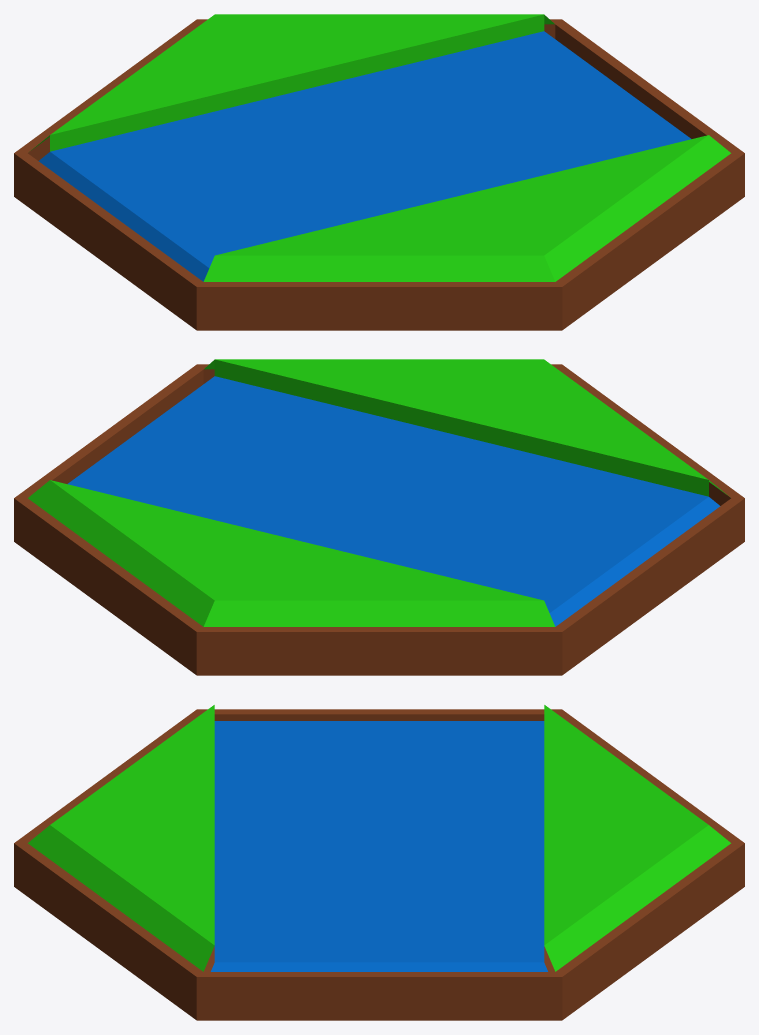
The picture shows the model from 3 angles, top to bottom: view 1: azimuth 30°, elevation 25°; view 2: azimuth 150°, elevation 25°; view 3: azimuth 270°, elevation 25°; orthographic projection.
Parts seen in each view (by area): view 1: SL0; view 2: SL0; view 3: SL0.
Part boxes in pixels (x1=…): SL0: x1=14, y1=14, x2=744, y2=330; SL0: x1=14, y1=359, x2=744, y2=675; SL0: x1=14, y1=705, x2=744, y2=1020.
Bounding box in the file's own units: 173 × 18.65 × 200.
